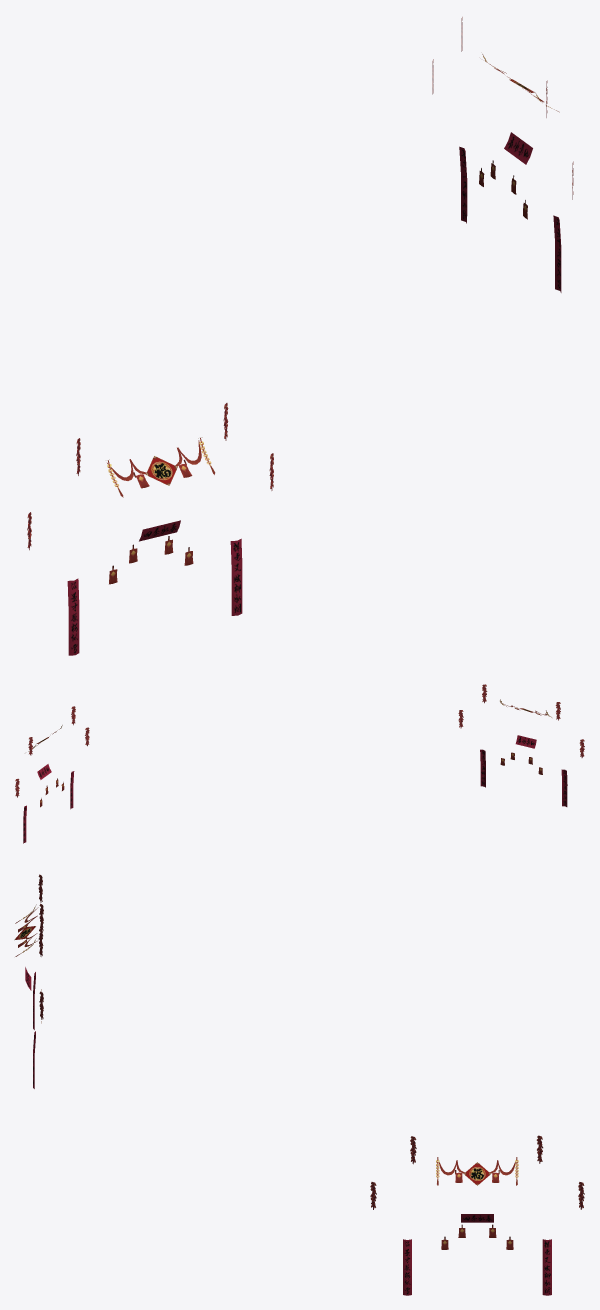
File: Jr_zhuangshi01_04_56_11_9585out.fbx
3 views of the same model, one above another, from view 1: azimuth 30°, elevation 25°; view 2: azimuth 150°, elevation 25°; view 3: azimuth 270°, elevation 25° (orthographic). The views are drawn at different scales.
Visible parts, largest first — view 1: Jr_zhuangshi01_04; view 2: Jr_zhuangshi01_04; view 3: Jr_zhuangshi01_04.
Boxes of the visible parts, left/top/right/bottom form: Jr_zhuangshi01_04: left=27, top=17, right=573, bottom=655; Jr_zhuangshi01_04: left=15, top=684, right=584, bottom=843; Jr_zhuangshi01_04: left=14, top=874, right=584, bottom=1295.
Size of the model in its own units: 24.93 by 6.24 by 20.67.
